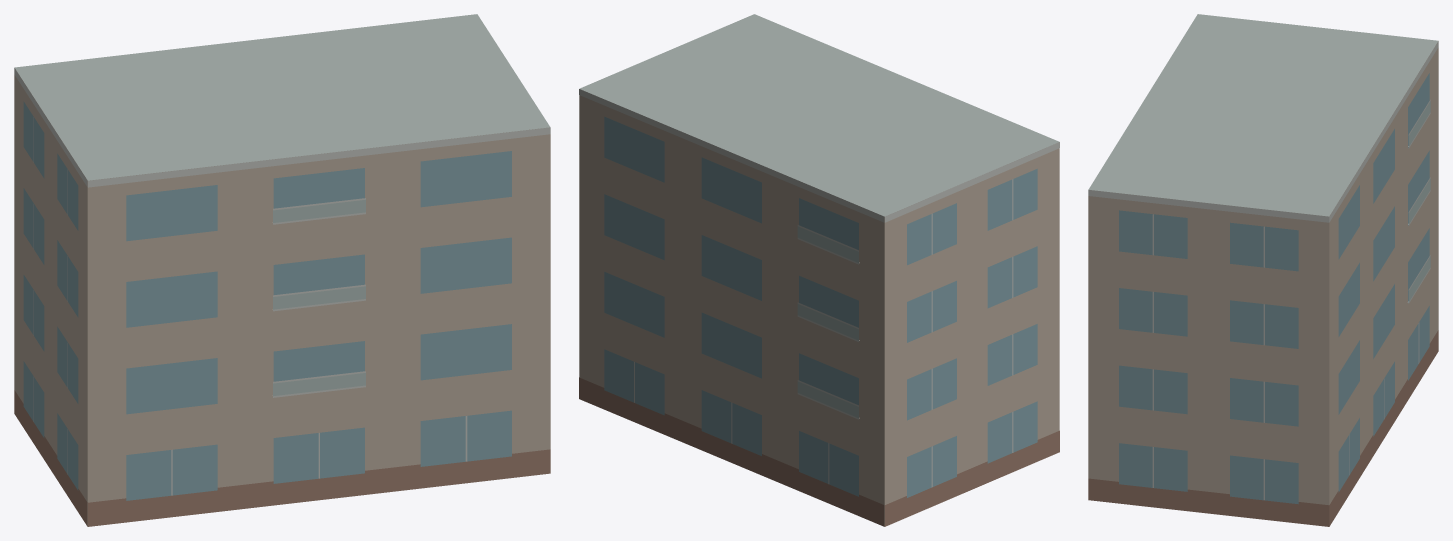
Rendered from residential-03247a2e-7d12-4e81-91fc-38ec3ff22fd7.glb.
The picture shows the model from 3 angles, left to right: view 1: azimuth 30°, elevation 25°; view 2: azimuth 150°, elevation 25°; view 3: azimuth 270°, elevation 25°; orthographic projection. The views are drawn at different scales.
Visible parts, largest first — view 1: residential-03247a2e-7d12-4e81-91fc-38ec3ff22fd7.tmp; view 2: residential-03247a2e-7d12-4e81-91fc-38ec3ff22fd7.tmp; view 3: residential-03247a2e-7d12-4e81-91fc-38ec3ff22fd7.tmp.
Boxes of the visible parts, left/top/right/bottom form: residential-03247a2e-7d12-4e81-91fc-38ec3ff22fd7.tmp: left=14, top=14, right=550, bottom=526; residential-03247a2e-7d12-4e81-91fc-38ec3ff22fd7.tmp: left=579, top=14, right=1059, bottom=526; residential-03247a2e-7d12-4e81-91fc-38ec3ff22fd7.tmp: left=1088, top=14, right=1438, bottom=526.
Bounding box in the file's own units: 17.09 × 12.2 × 12.49.
